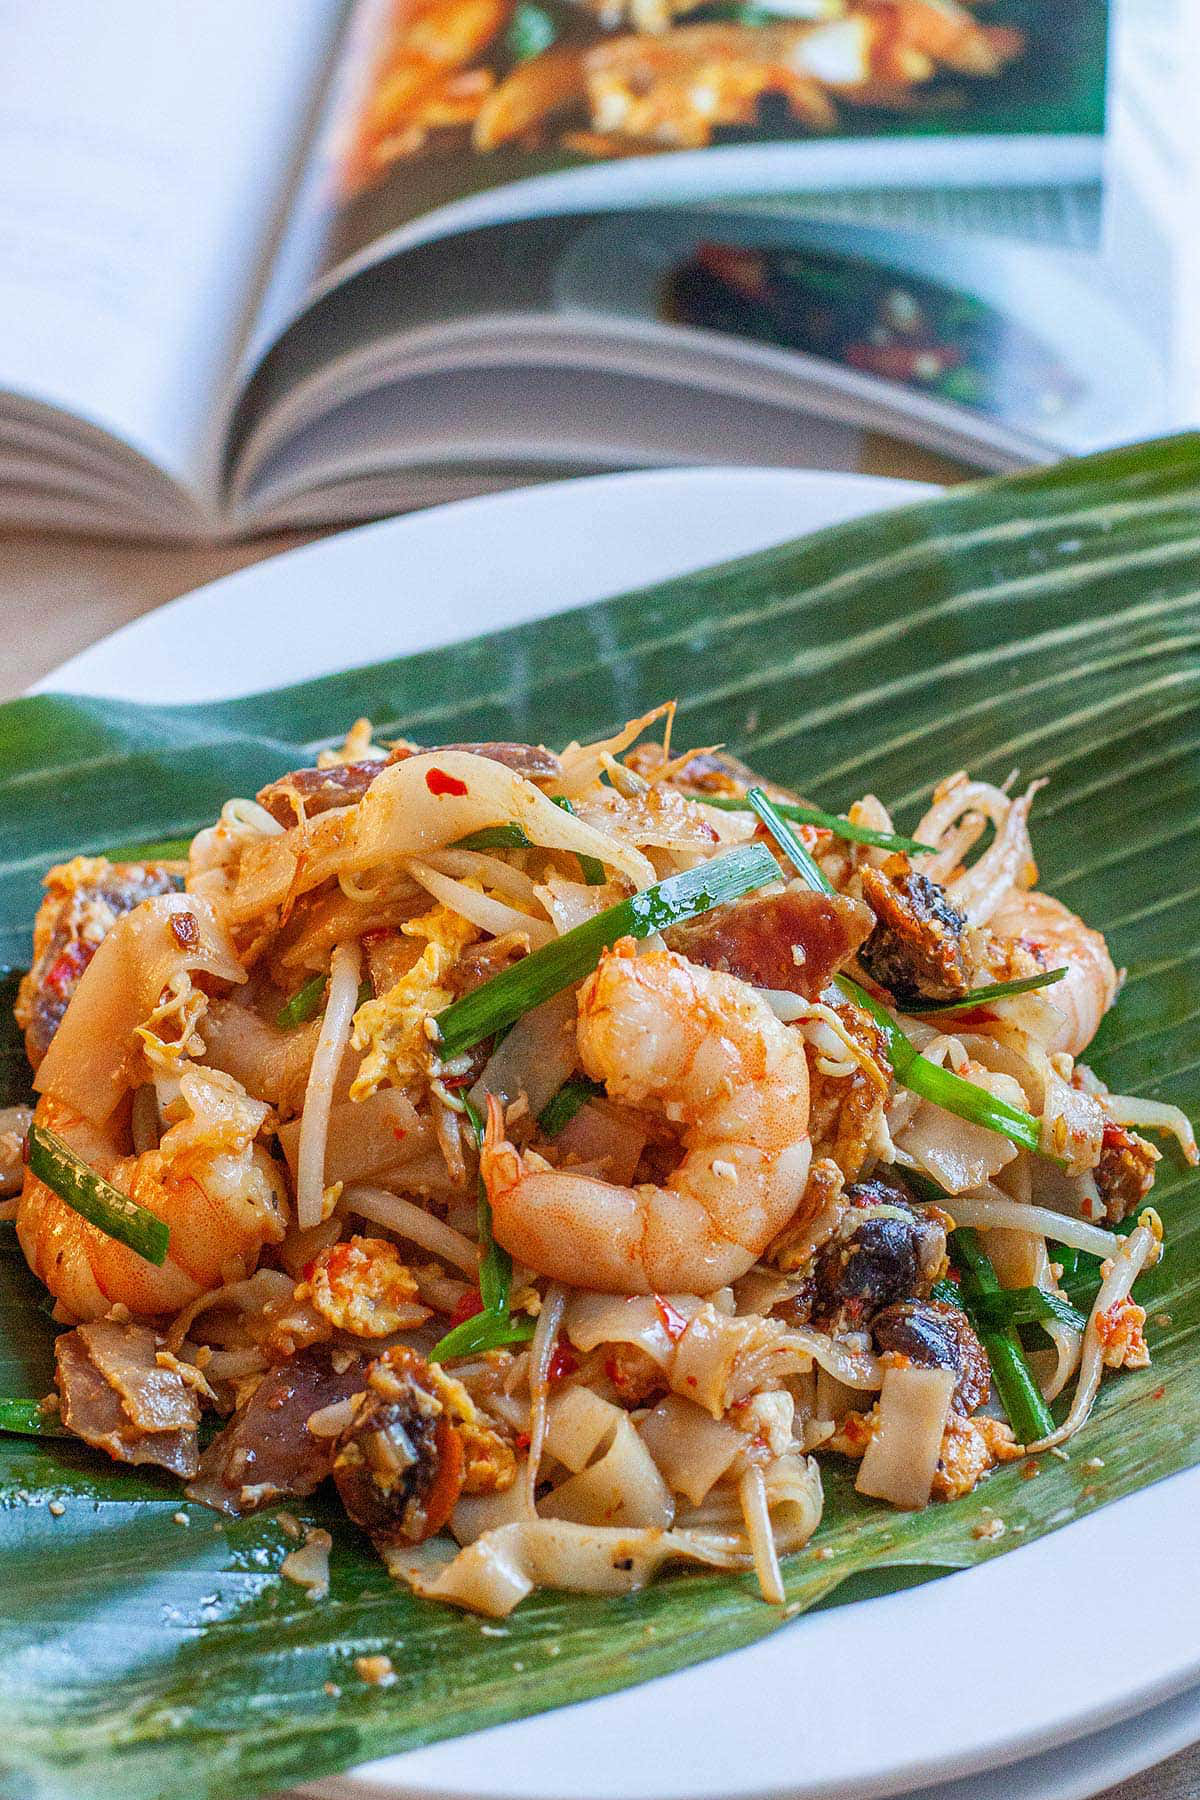Char Kway Teow: (17, 707, 1176, 1665)
